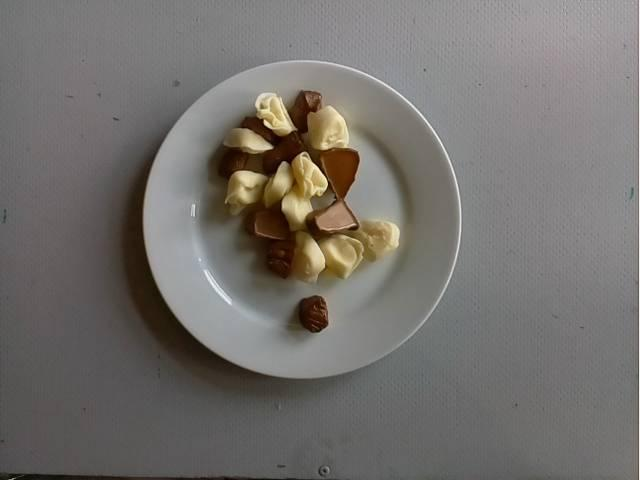Tortellini + meat: (216, 89, 402, 333)
